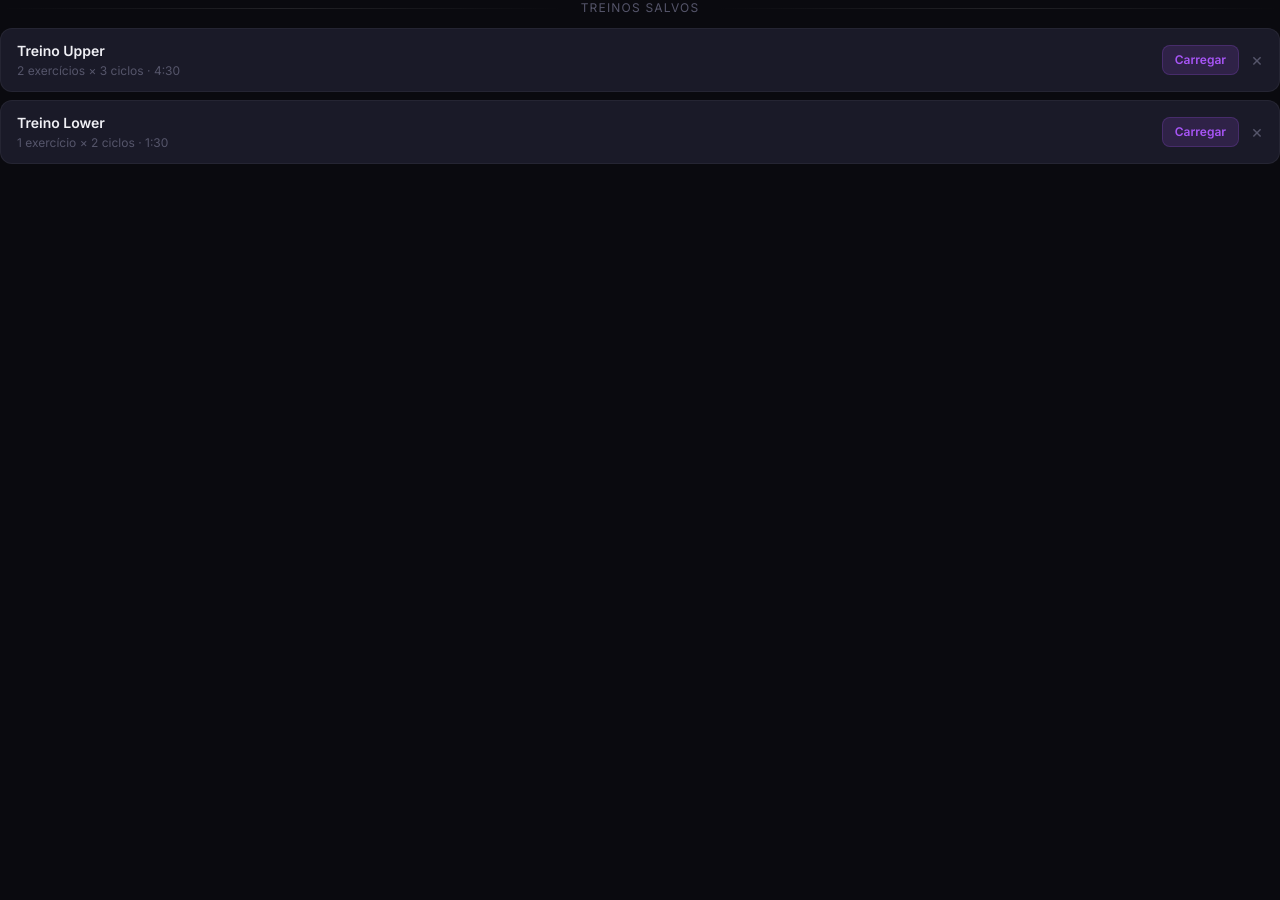
Test: SavedWorkouts › fecha o modal e não exclui ao clicar Cancelar
Open the confirmation modal
Click the button named "Excluir Treino Upper": (1257, 60) [1251,51,1263,69]
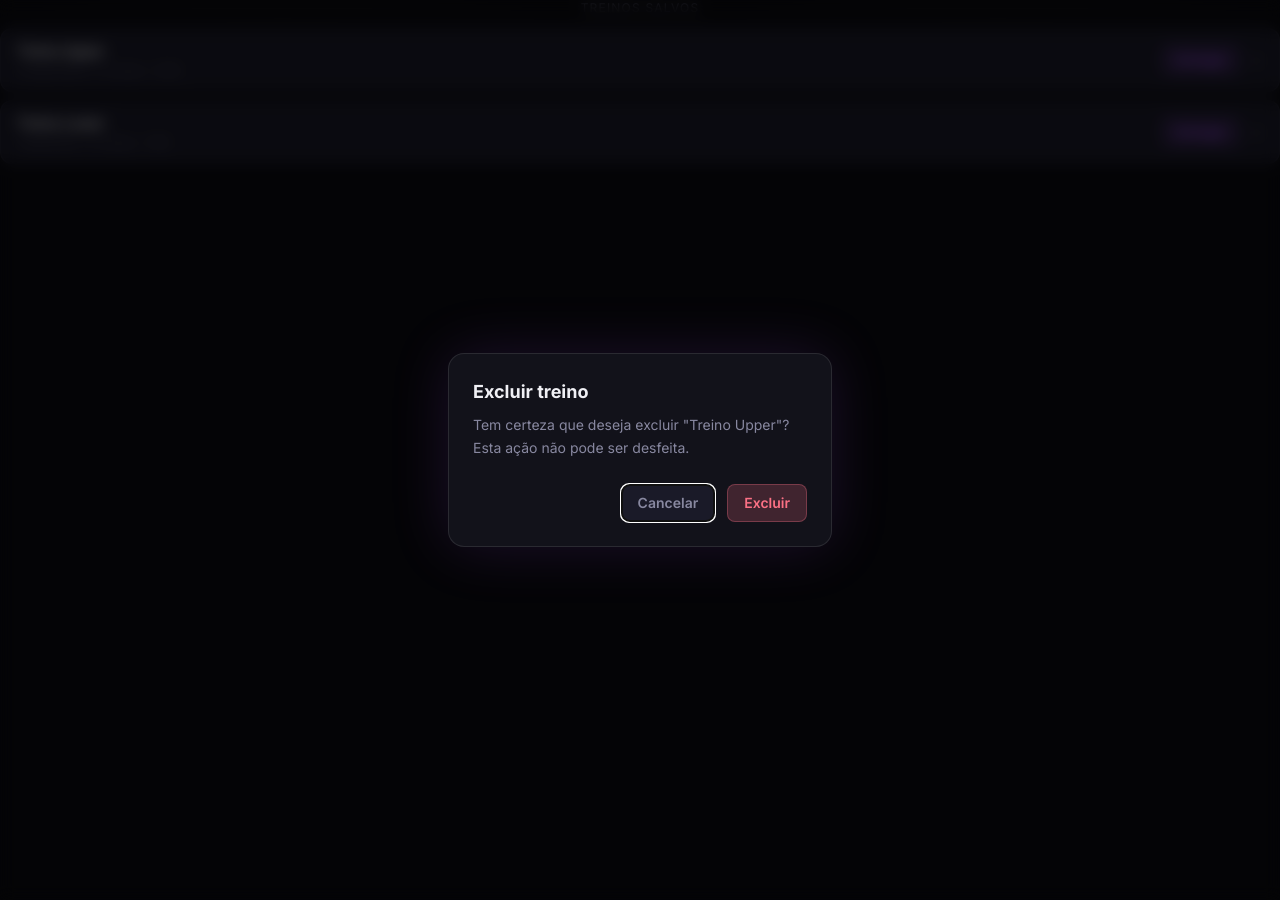
expect the dialog with test id "confirm-modal" is shown: met
Click cancel
Click the button "Cancelar": (668, 503) [621,484,715,522]
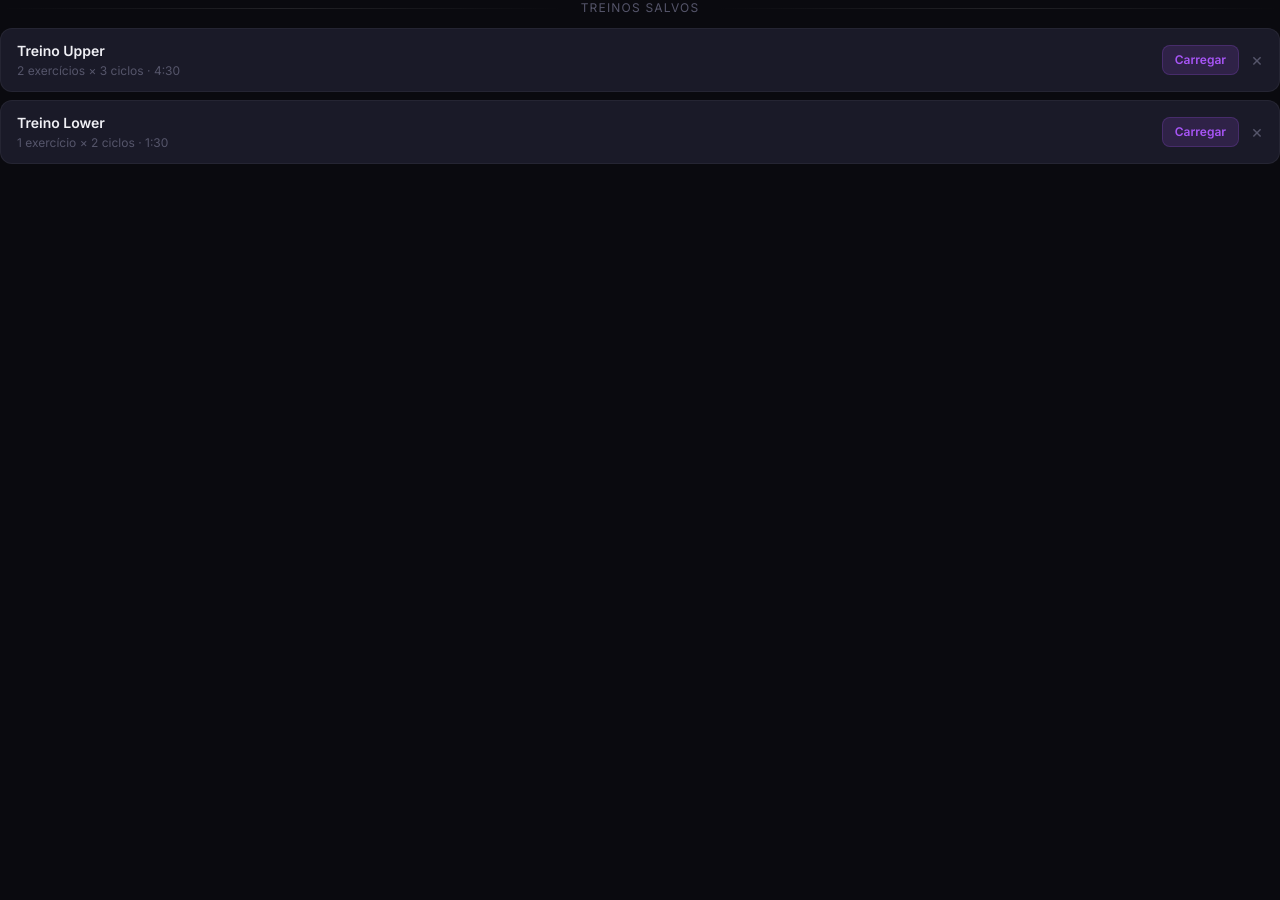
expect the dialog with test id "confirm-modal" is gone: met
